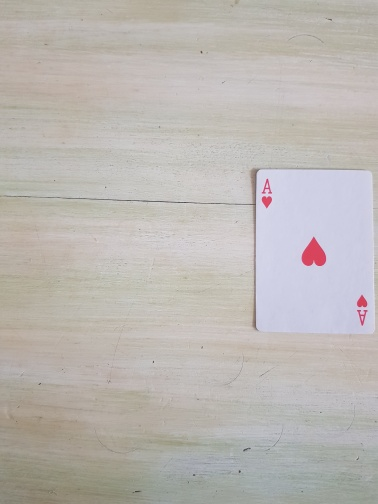ace: (254, 170, 376, 335)
